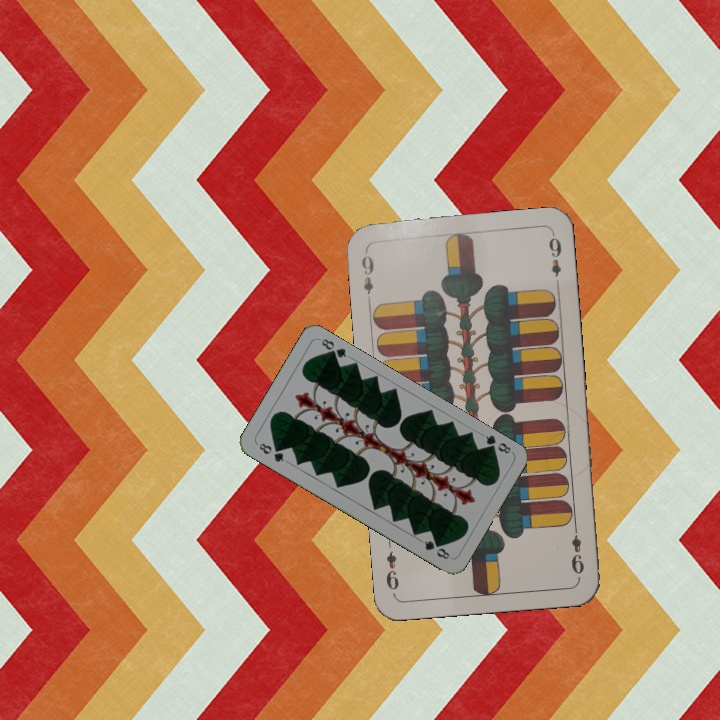E9: (357, 246, 377, 306), (567, 521, 586, 577)
G8: (255, 439, 287, 465), (481, 431, 514, 456)
